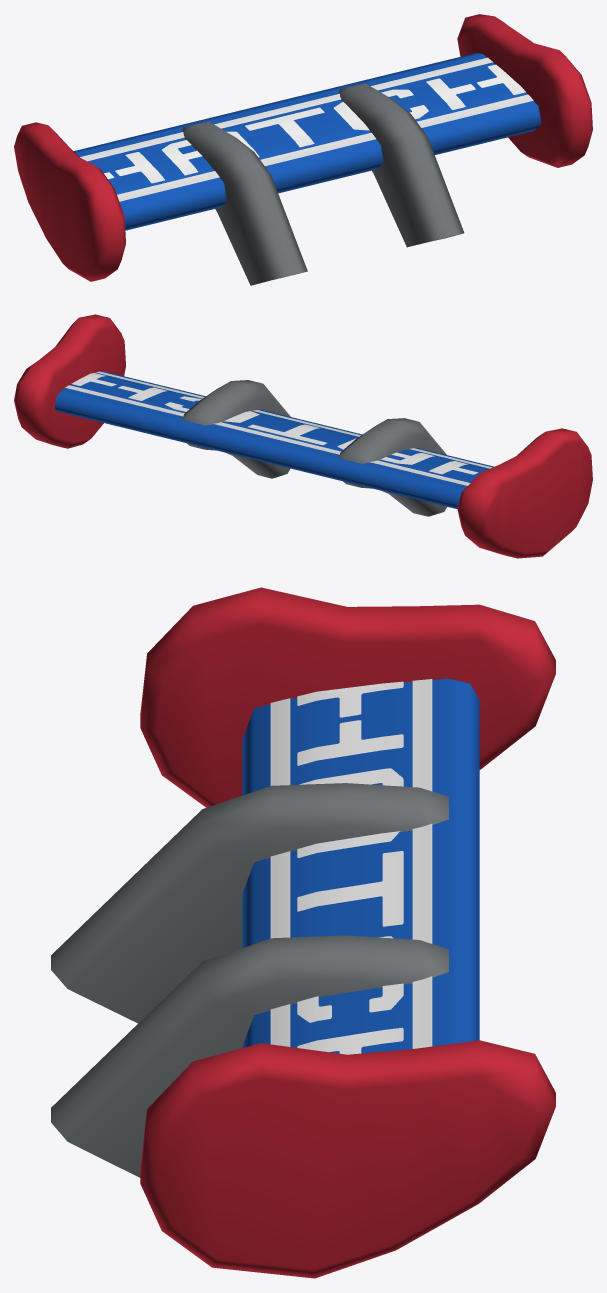
The model's file is Car_01_Spoiler.fbx.
The picture shows the model from 3 angles, top to bottom: view 1: azimuth 30°, elevation 25°; view 2: azimuth 150°, elevation 25°; view 3: azimuth 270°, elevation 25°; orthographic projection. The views are drawn at different scales.
Parts seen in each view (by area): view 1: Car_01_Spoiler; view 2: Car_01_Spoiler; view 3: Car_01_Spoiler.
Part boxes in pixels (left/top/right/bottom): Car_01_Spoiler: left=14, top=14, right=592, bottom=285; Car_01_Spoiler: left=14, top=314, right=592, bottom=558; Car_01_Spoiler: left=51, top=587, right=555, bottom=1278.
Bounding box in the file's own units: 167 × 73.67 × 44.05.
